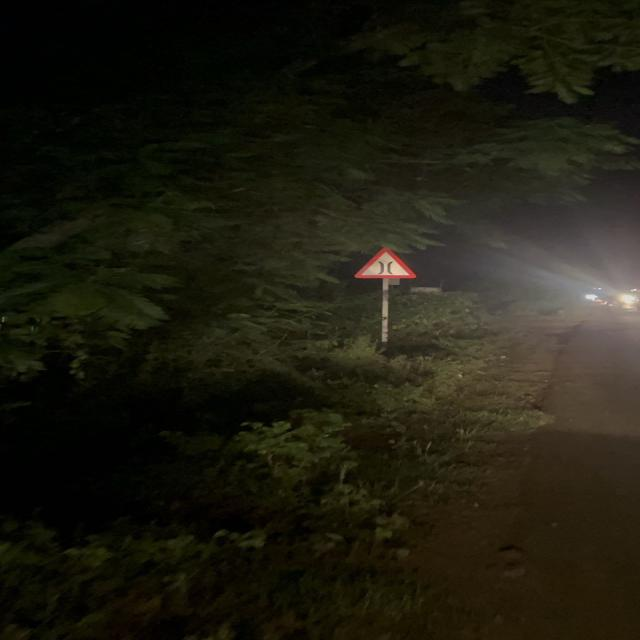Narrow_Bridge: (355, 248, 419, 278)
